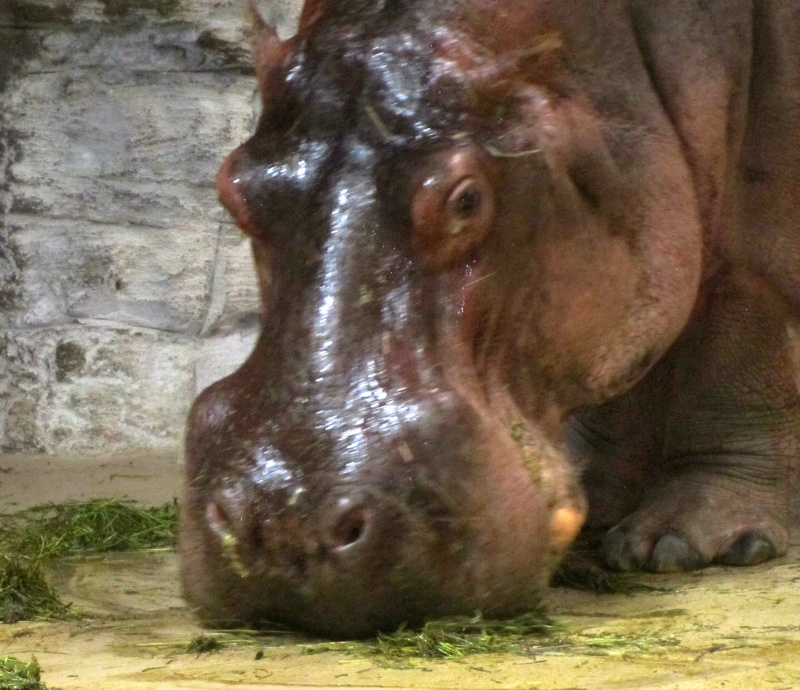hipopotamo: (157, 0, 796, 650)
